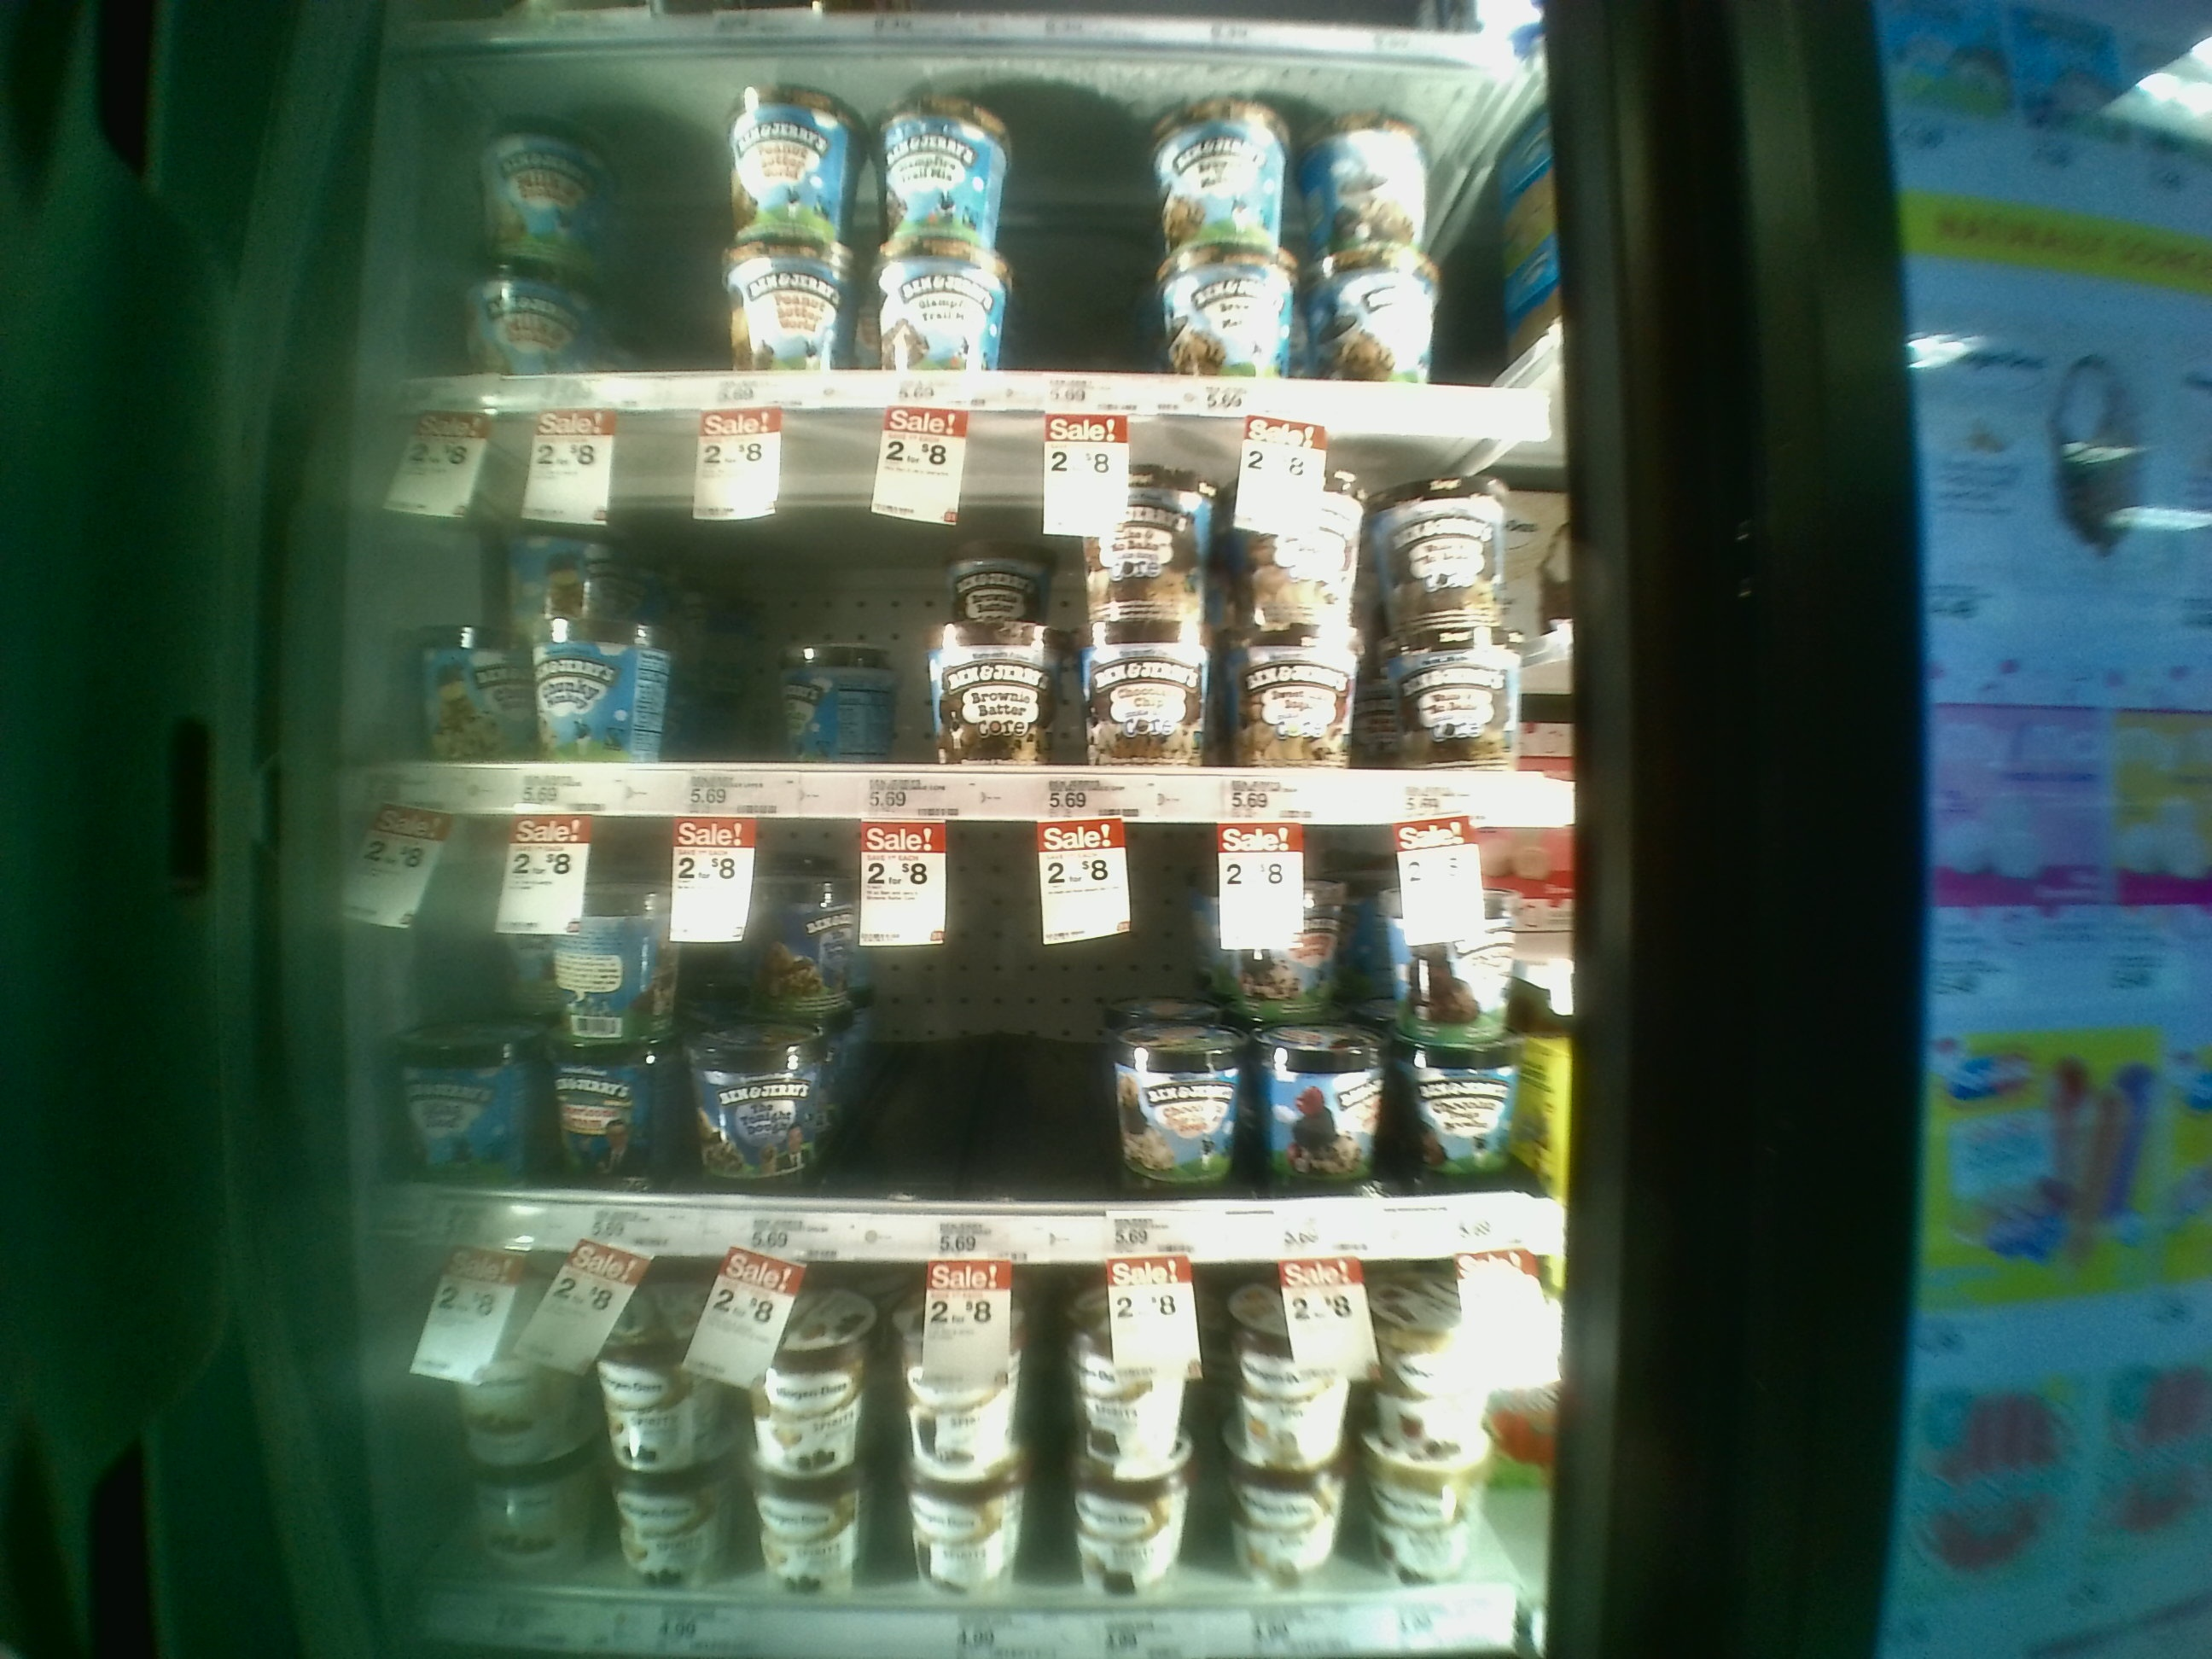shelf: (371, 819, 1566, 1251), (366, 413, 1594, 814), (369, 1253, 1571, 1659), (354, 38, 1581, 408)
